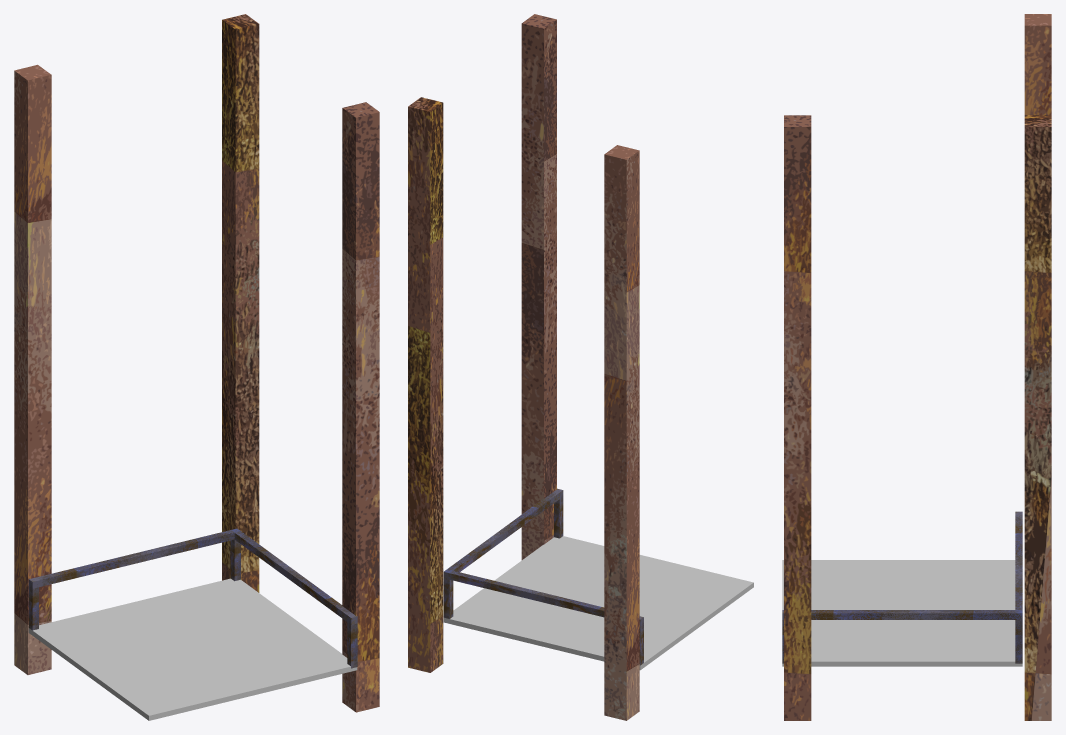
File: Eleator.fbx
3 renders of one model, left to right at view 1: azimuth 30°, elevation 25°; view 2: azimuth 150°, elevation 25°; view 3: azimuth 270°, elevation 25°, orthographic. The views are drawn at different scales.
Visible parts, largest first — view 1: Floor, Pillar_1, Pillar_2, Pillar, Fence, Fence_1; view 2: Pillar_2, Pillar, Pillar_1, Floor, Fence, Fence_1; view 3: Floor, Pillar_1, Pillar, Pillar_2, Fence_1, Fence.
Part boxes in pixels (x1,y1,x2,y2): Floor: [28, 578, 357, 720]; Pillar_1: [342, 102, 379, 712]; Pillar_2: [14, 64, 51, 674]; Pillar: [222, 14, 259, 592]; Fence: [28, 529, 240, 588]; Fence_1: [231, 528, 357, 624]; Pillar_2: [604, 145, 639, 720]; Pillar: [408, 97, 443, 672]; Pillar_1: [521, 14, 556, 559]; Floor: [443, 536, 753, 670]; Fence: [443, 570, 643, 624]; Fence_1: [444, 488, 563, 572]; Floor: [782, 560, 1022, 666]; Pillar_1: [784, 115, 811, 720]; Pillar: [1024, 115, 1051, 720]; Pillar_2: [1024, 14, 1051, 115]; Fence_1: [782, 610, 1022, 619]; Fence: [1015, 511, 1022, 613].
Size of the model in its own units: 489 by 494 by 1200.
